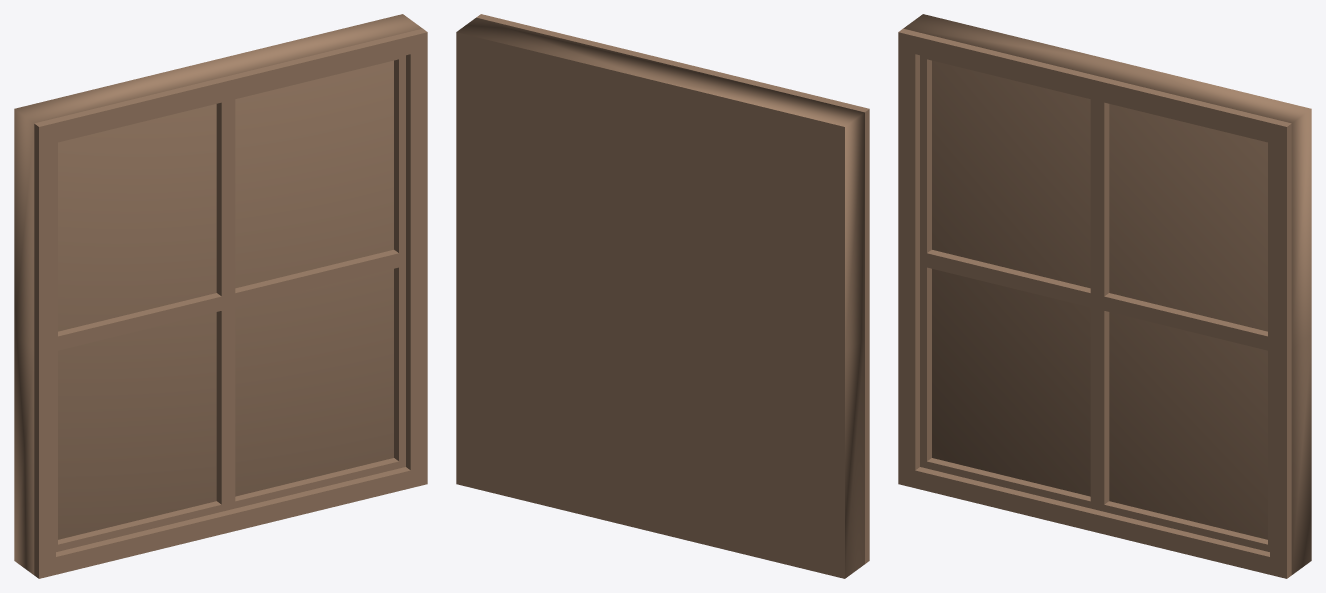
The model's file is ModularWall_001.FBX.
3 renders of one model, left to right at view 1: azimuth 30°, elevation 25°; view 2: azimuth 150°, elevation 25°; view 3: azimuth 330°, elevation 25°, orthographic.
Visible parts, largest first — view 1: ModularWall_001; view 2: ModularWall_001; view 3: ModularWall_001.
Part boxes in pixels (left/top/right/bottom): ModularWall_001: left=14, top=14, right=427, bottom=578; ModularWall_001: left=456, top=14, right=869, bottom=578; ModularWall_001: left=898, top=14, right=1311, bottom=578.
Size of the model in its own units: 22.86 by 25.4 by 2.53.
